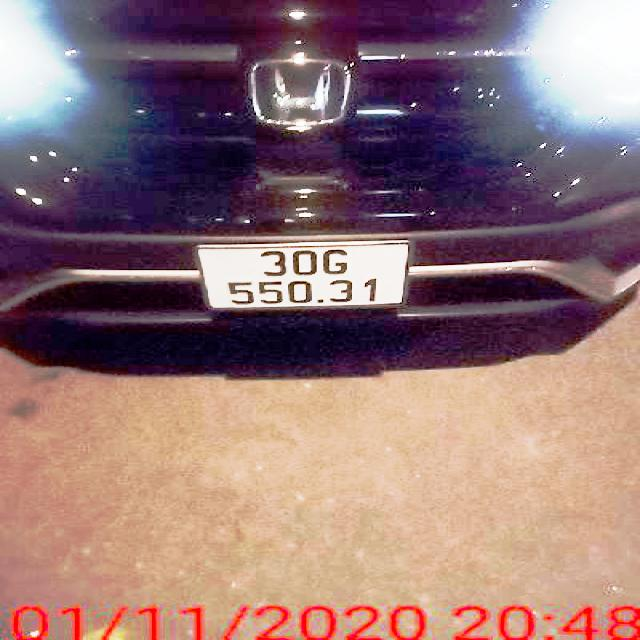license_plate: (204, 242, 410, 312)
